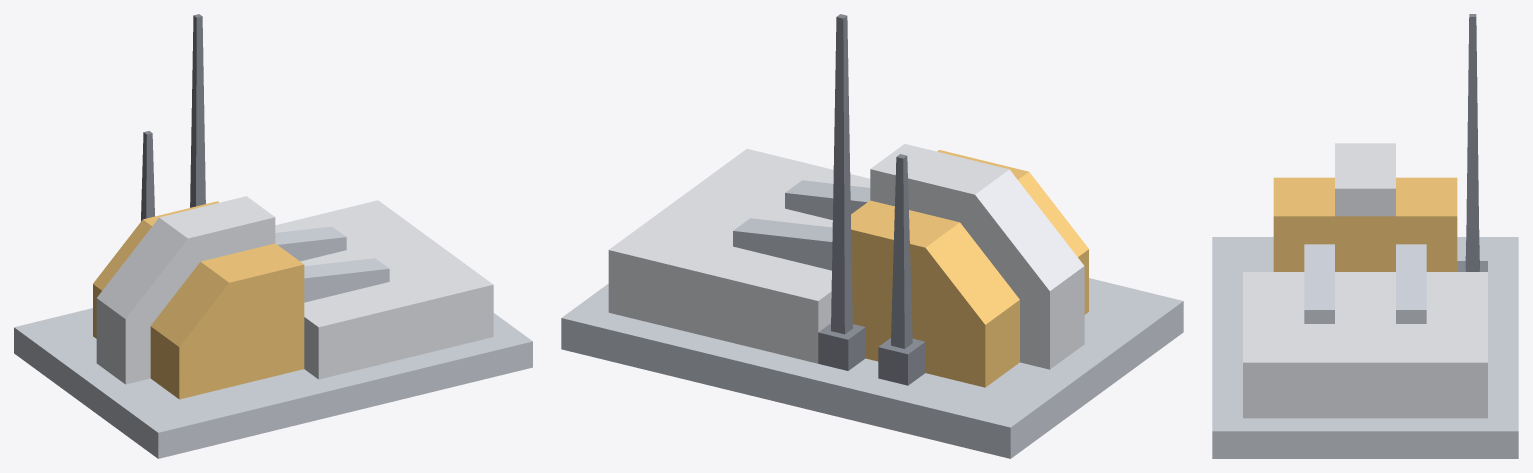
File: machine_wireless.glb
3 views of the same model, side by side, from view 1: azimuth 30°, elevation 25°; view 2: azimuth 150°, elevation 25°; view 3: azimuth 270°, elevation 25° (orthographic). The views are drawn at different scales.
Parts seen in each view (by area): view 1: machine_wireless; view 2: machine_wireless; view 3: machine_wireless.
Part boxes in pixels (bbox=[...]): machine_wireless: bbox=[14, 14, 532, 458]; machine_wireless: bbox=[561, 14, 1183, 458]; machine_wireless: bbox=[1212, 14, 1518, 458].
Bounding box in the file's own units: 0.75 × 0.6 × 0.5.
